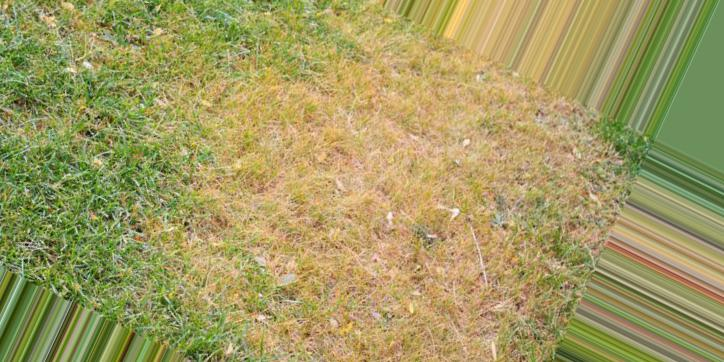patch: (263, 128, 438, 250), (338, 261, 513, 341), (411, 83, 538, 150), (493, 159, 545, 272)
